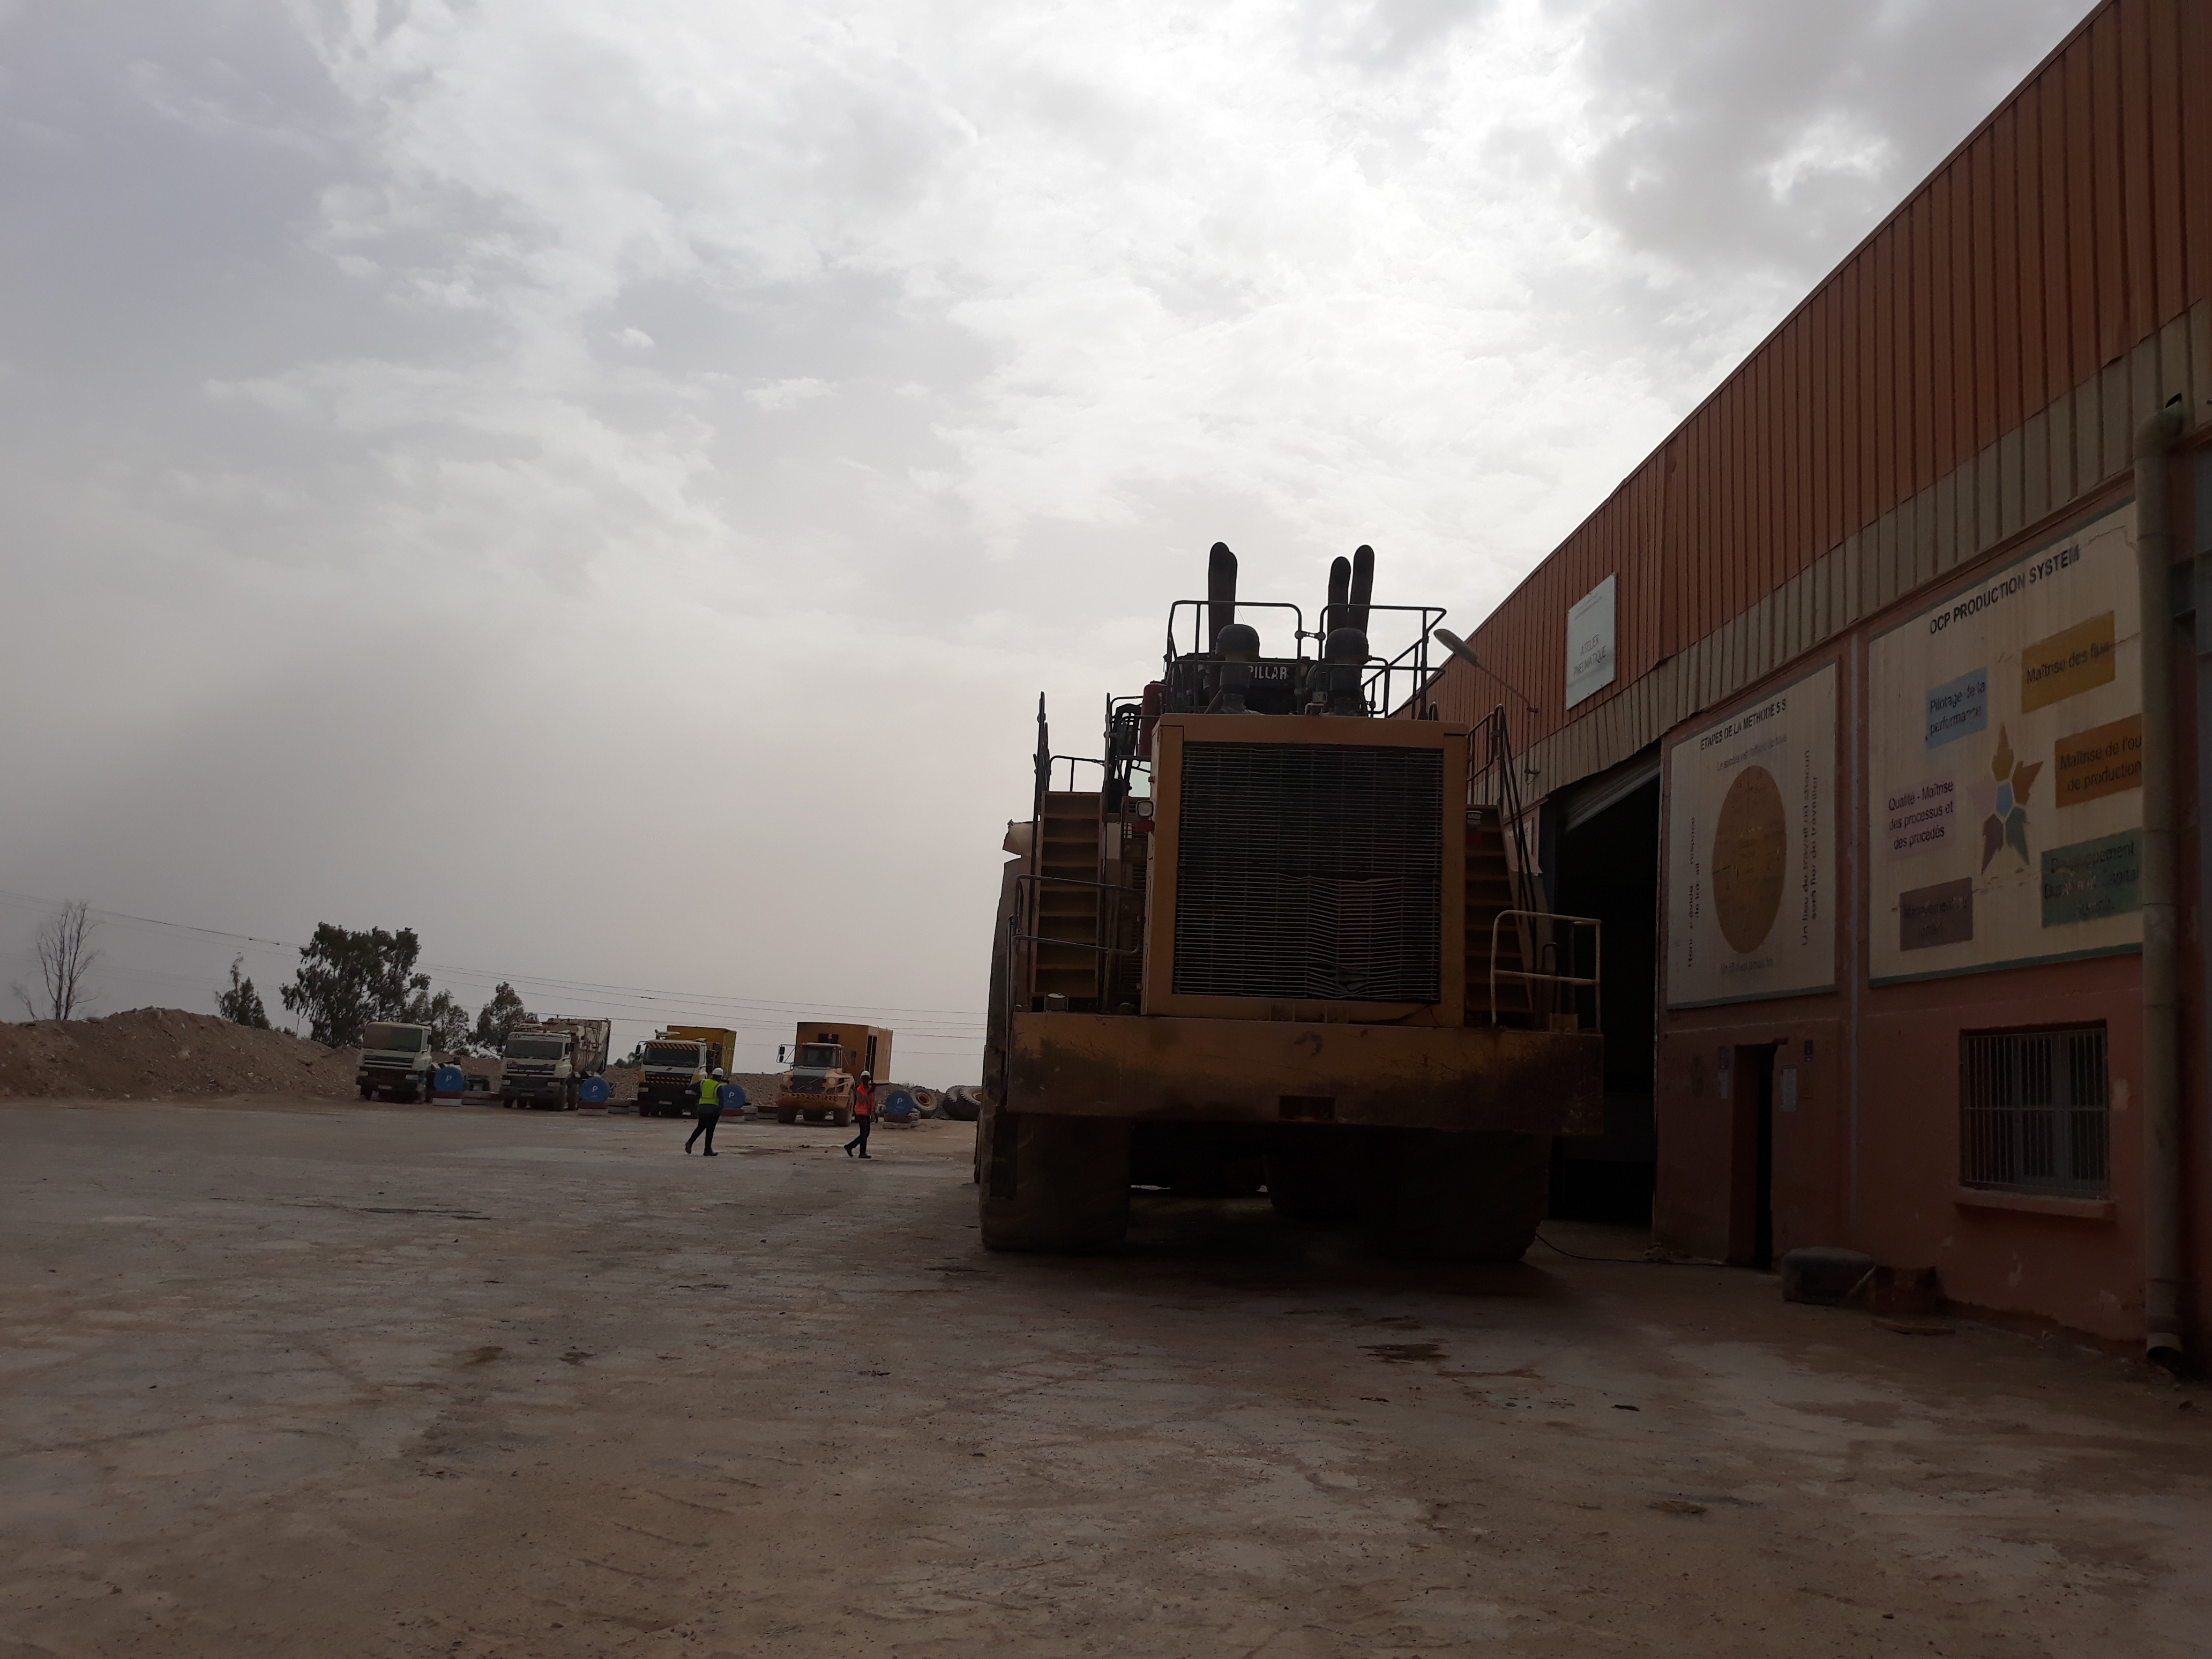chargeuse: (954, 486, 1645, 1329)
person: (677, 1060, 734, 1160), (834, 1062, 888, 1163)
